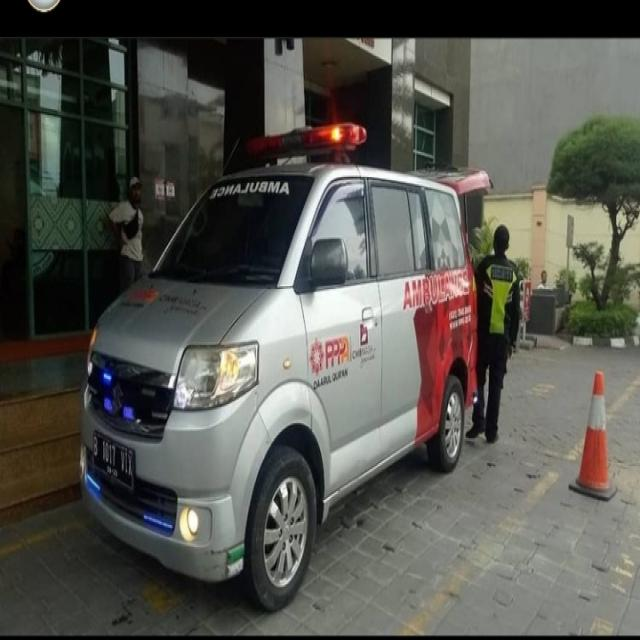emergency-vehicle: (74, 165, 486, 606)
